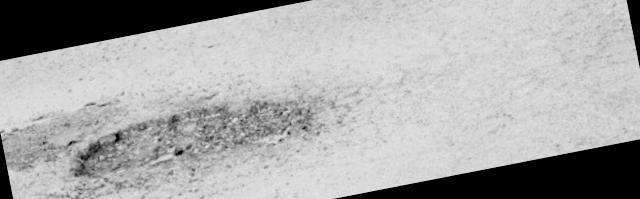Pothole: (42, 53, 317, 199)
